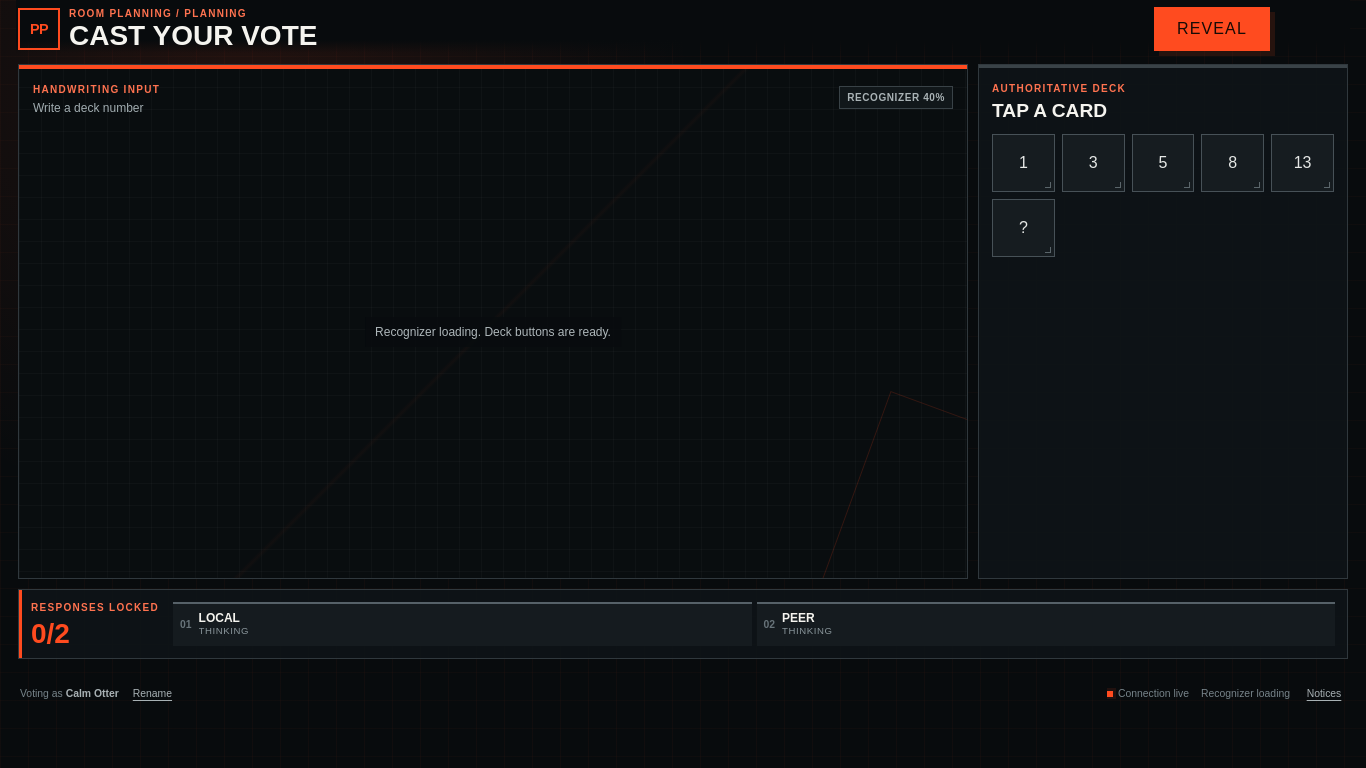
Test: VotingApp voting controls › does not cover a card vote with the recognizer loading message
Expected: the text "Recognizer loading. Deck buttons are ready." is shown, [365,316,621,346]
Click the button named "Vote 5". click: x=1163, y=163
box: [1132,134,1194,192]
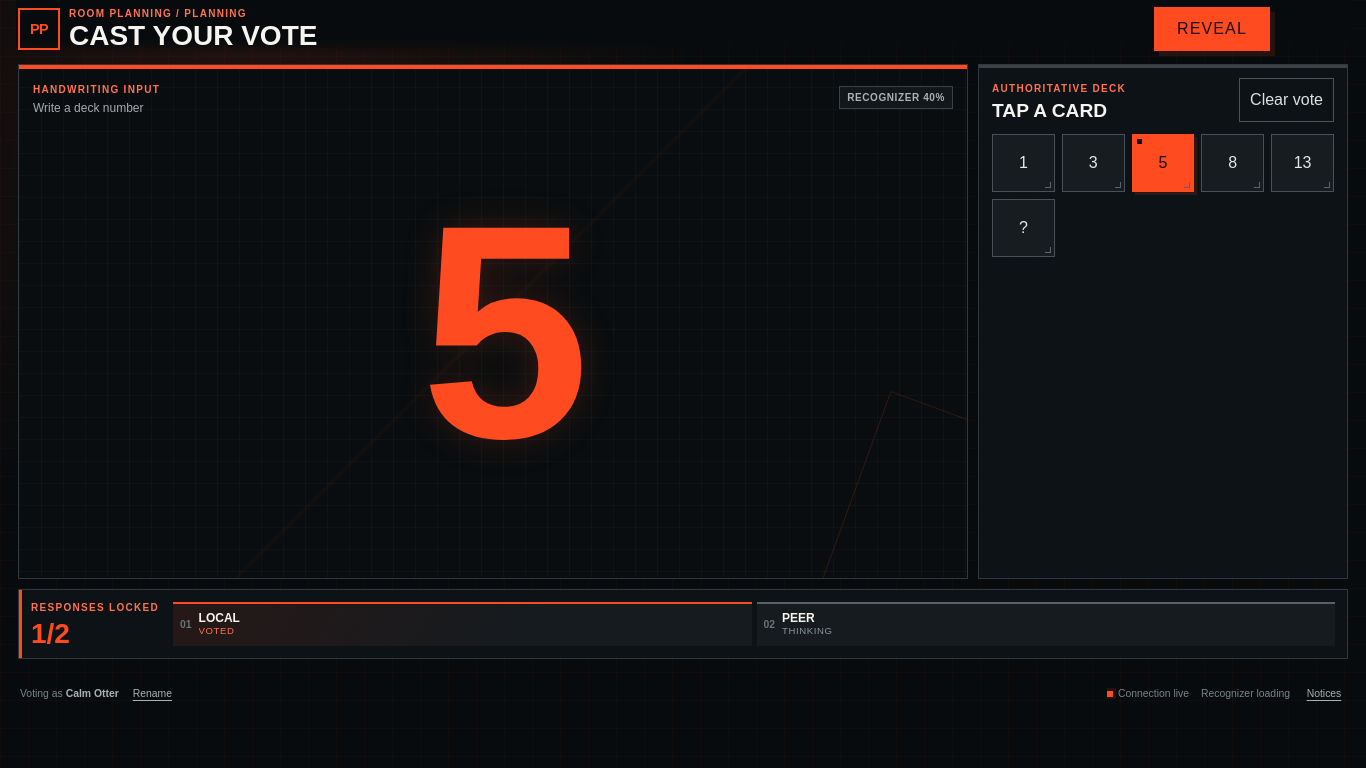
Expected: the text "Recognizer 40%" is shown, [839,86,953,108]
Result: the text named "Current vote 5" is shown at [421,162,565,501]
Result: the text "Recognizer loading. Deck buttons are ready." is gone
